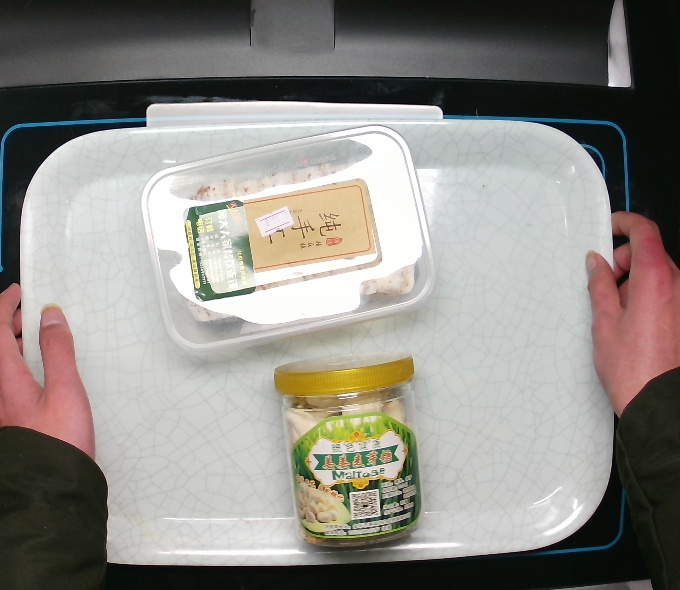wcq-GuiHuaGao: (135, 121, 441, 357)
wcq-MaiYaTang: (271, 350, 431, 552)
